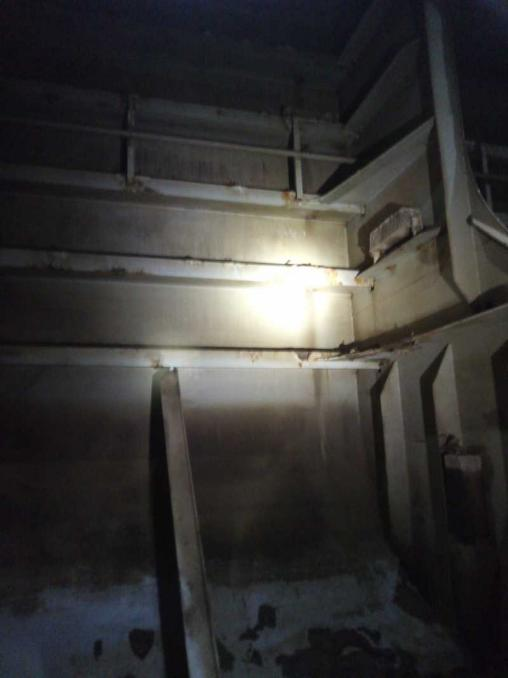corrosion: (251, 109, 334, 136), (317, 261, 375, 298), (272, 183, 324, 214), (116, 168, 159, 197)
